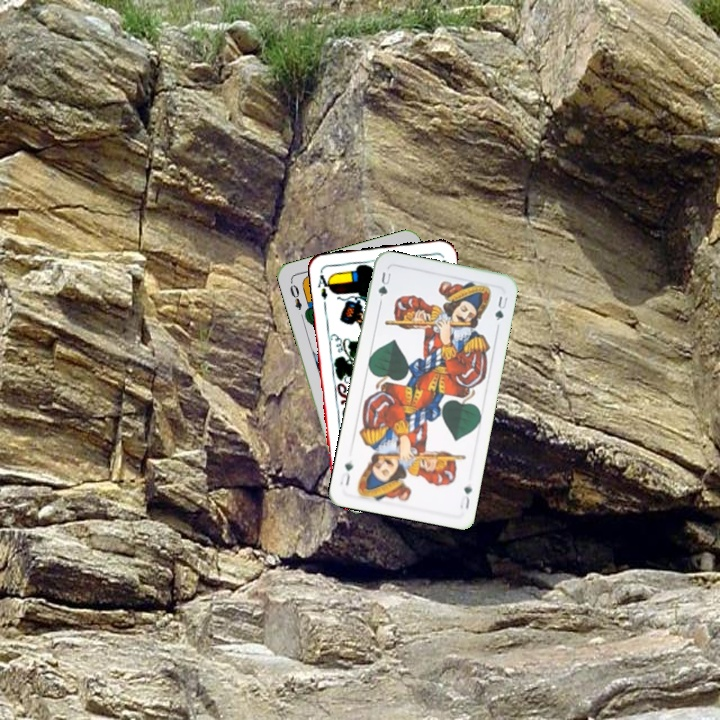EA: (314, 267, 334, 302)
EO: (286, 277, 305, 313)
GU: (374, 268, 394, 306), (456, 482, 475, 512)
